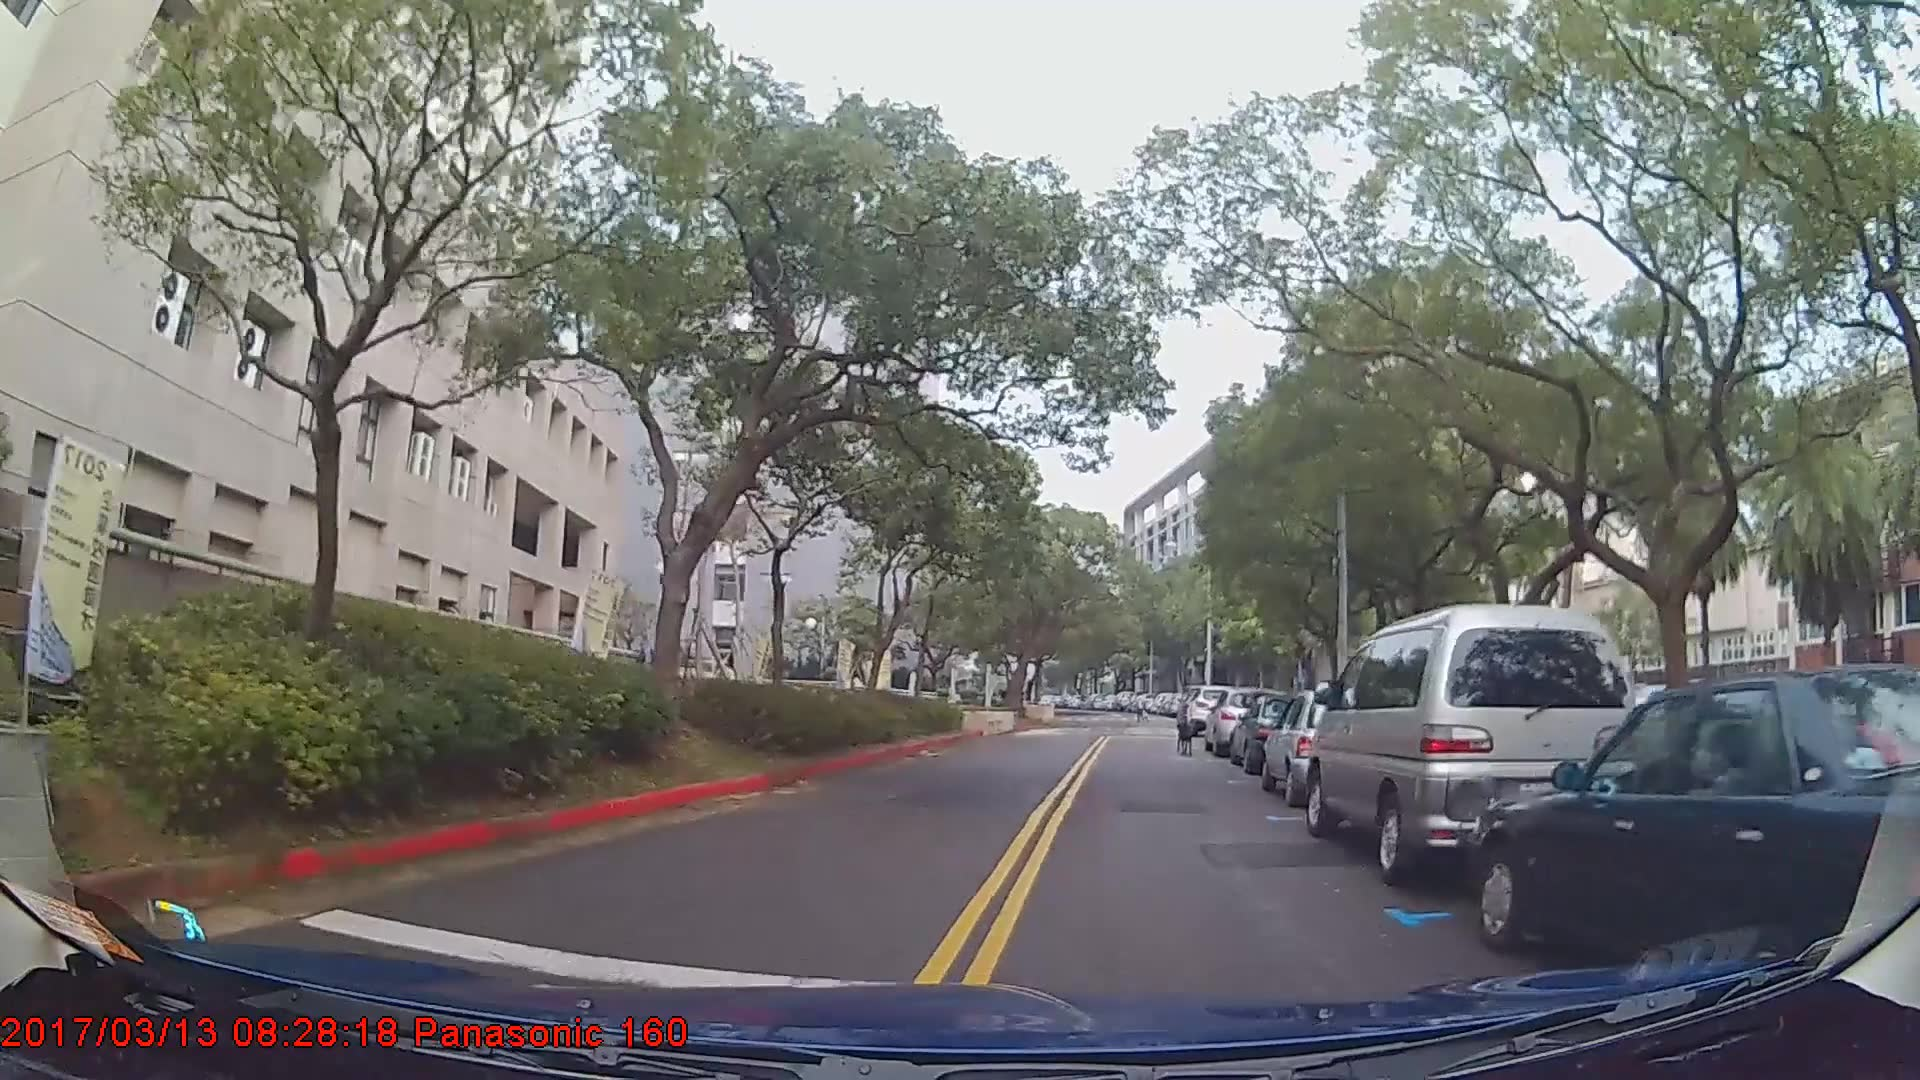vehicle: (1468, 661, 1919, 993), (1302, 601, 1639, 886)
